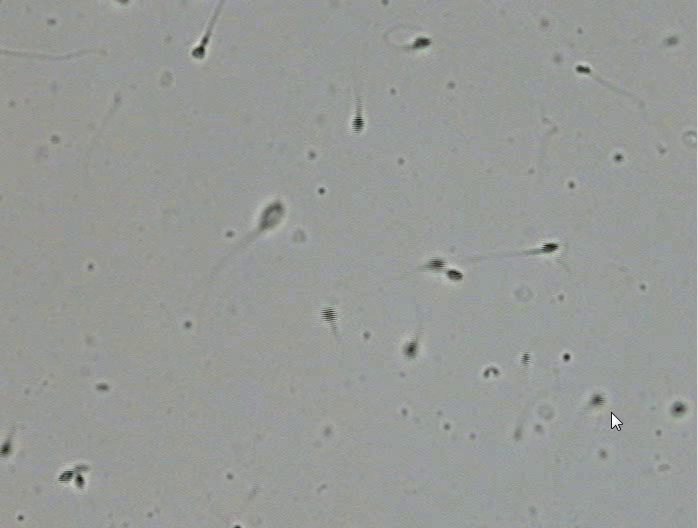S: (259, 200, 285, 230), (320, 306, 336, 323), (426, 258, 446, 271), (540, 242, 559, 254), (412, 37, 431, 49), (352, 116, 365, 133), (58, 470, 74, 483), (404, 342, 417, 358), (446, 269, 463, 281), (191, 45, 205, 59), (672, 402, 686, 415), (590, 394, 604, 406), (575, 64, 591, 74), (74, 475, 85, 489), (1, 442, 11, 457)
